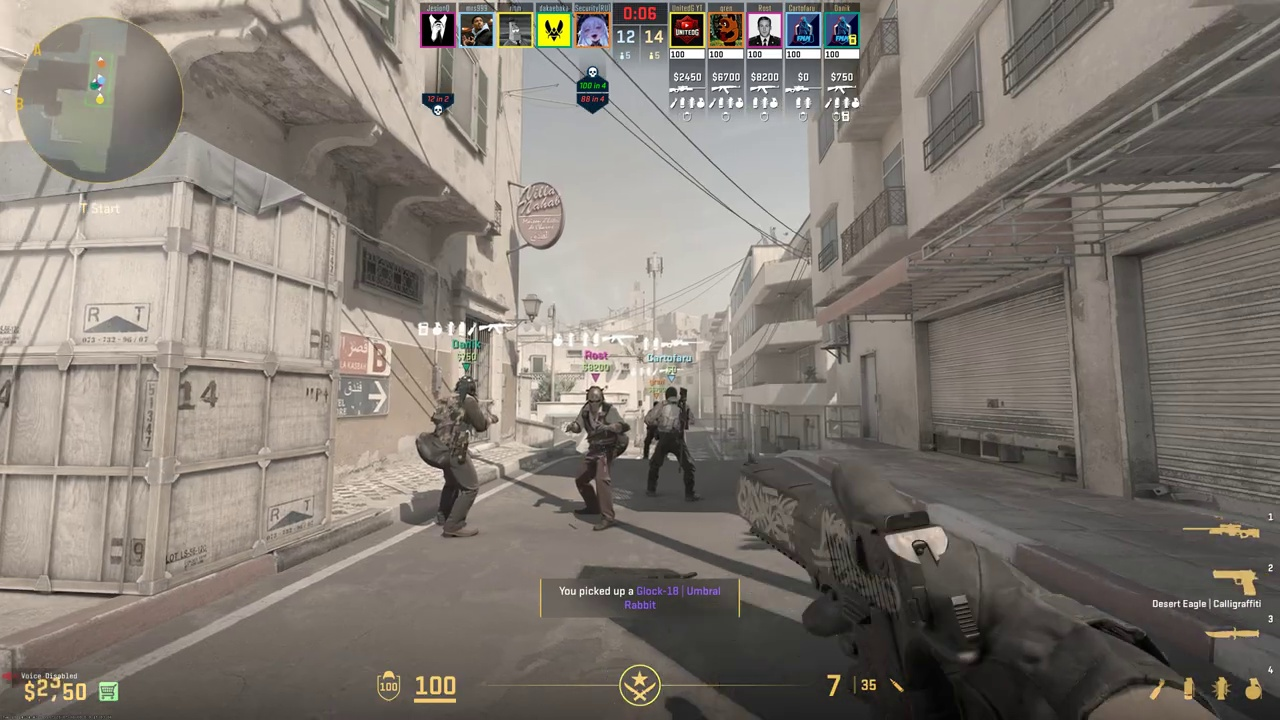Terrorist: (431, 380, 482, 535), (577, 387, 618, 529), (648, 387, 697, 499), (643, 400, 659, 459)
